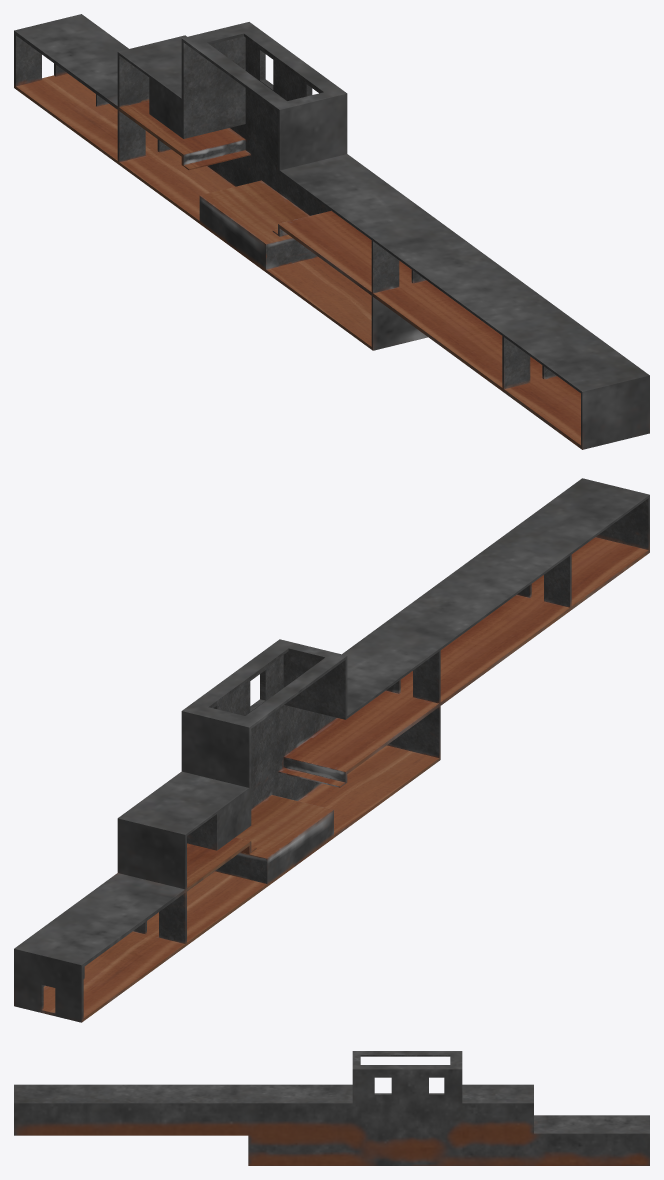
File: Salle mur.fbx
The picture shows the model from 3 angles, top to bottom: view 1: azimuth 30°, elevation 25°; view 2: azimuth 150°, elevation 25°; view 3: azimuth 270°, elevation 25°; orthographic projection. The views are drawn at different scales.
Visible parts, largest first — view 1: Niveau mur; view 2: Niveau mur; view 3: Niveau mur.
Part boxes in pixels (x1=…): Niveau mur: x1=14, y1=14, x2=649, y2=449; Niveau mur: x1=14, y1=478, x2=649, y2=1022; Niveau mur: x1=14, y1=1051, x2=649, y2=1165.
Size of the model in its own units: 127 by 310 by 1854.
